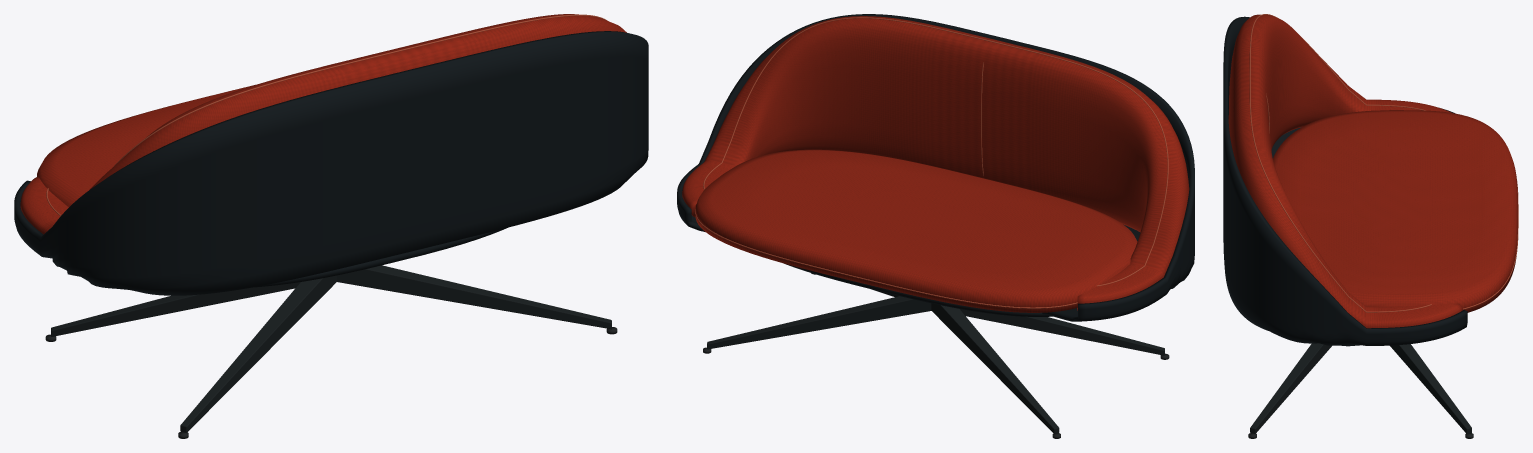
The picture shows the model from 3 angles, left to right: view 1: azimuth 30°, elevation 25°; view 2: azimuth 150°, elevation 25°; view 3: azimuth 270°, elevation 25°; orthographic projection. The views are drawn at different scales.
Visible parts, largest first — view 1: Charcoal outer backing with rolled front ends, Thick upholstered back and descending side wings, Concealed central seat support, Fine top edge upholstery welt; view 2: Thick upholstered back and descending side wings, Charcoal outer backing with rolled front ends, Concealed central seat support, Fine top edge upholstery welt; view 3: Thick upholstered back and descending side wings, Charcoal outer backing with rolled front ends, Concealed central seat support, Fine top edge upholstery welt.
Boxes of the visible parts, <box> form: Charcoal outer backing with rolled front ends: <box>14,31,648,295</box>; Thick upholstered back and descending side wings: <box>20,14,626,234</box>; Concealed central seat support: <box>51,265,611,432</box>; Fine top edge upholstery welt: <box>46,14,608,216</box>; Thick upholstered back and descending side wings: <box>682,16,1189,312</box>; Charcoal outer backing with rolled front ends: <box>677,14,1194,321</box>; Concealed central seat support: <box>707,289,1164,433</box>; Fine top edge upholstery welt: <box>695,17,1168,308</box>; Thick upholstered back and descending side wings: <box>1228,14,1517,328</box>; Charcoal outer backing with rolled front ends: <box>1223,16,1467,346</box>; Concealed central seat support: <box>1250,343,1471,433</box>; Fine top edge upholstery welt: <box>1249,14,1518,312</box>.
Bounding box in the file's own units: 1.53 × 0.8521 × 0.8307.
5 materials, 1 textured.
